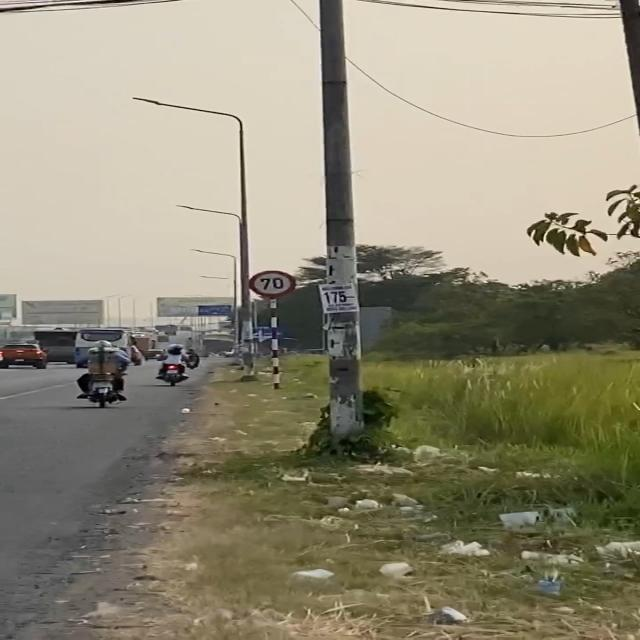127-toc-do-toi-da-70: (248, 270, 298, 298)
